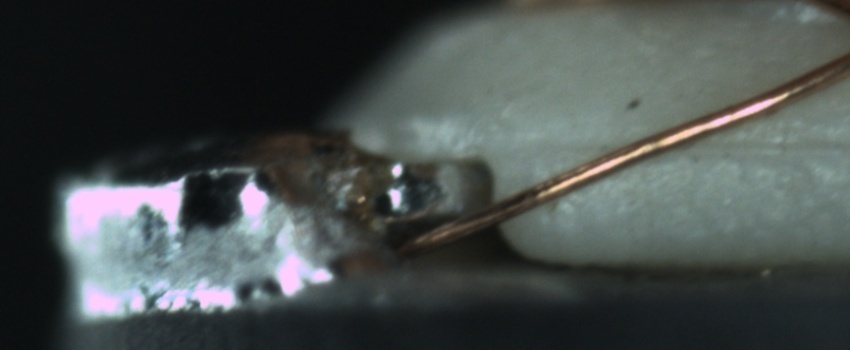DL: (545, 111, 850, 180)
